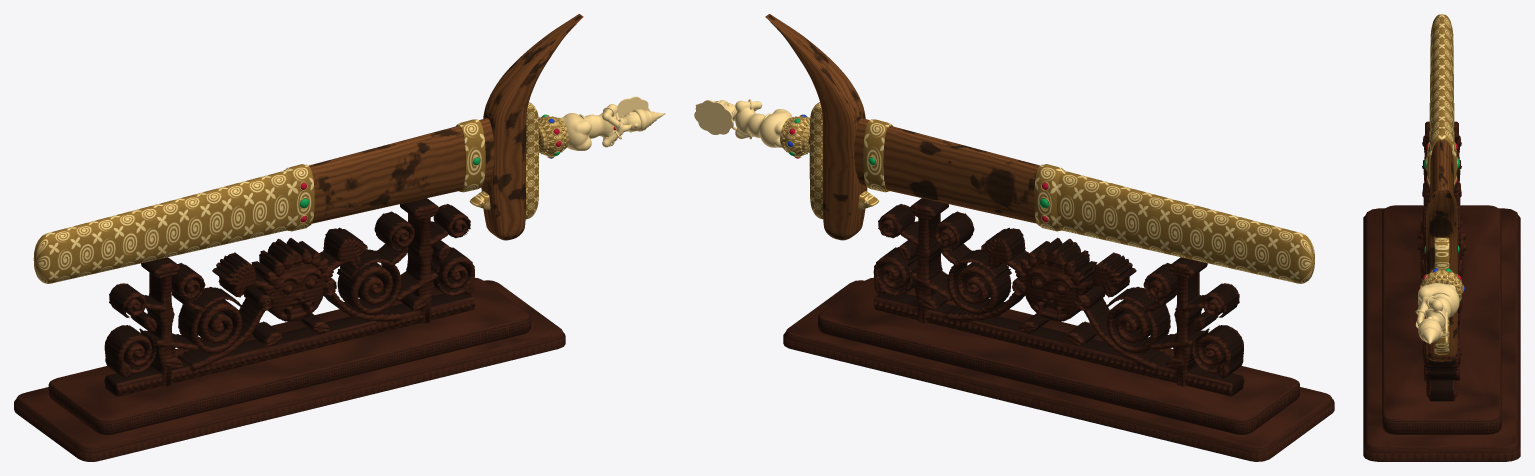
Rendered from keris_bali.glb.
3 renders of one model, left to right at view 1: azimuth 30°, elevation 25°; view 2: azimuth 150°, elevation 25°; view 3: azimuth 270°, elevation 25°, orthographic. The views are drawn at different scales.
Visible parts, largest first — view 1: Jagrak_Ukiran, Jagrak_Kaki, Pendok, Gandar, Warangka_Sesrengatan, Hulu, Cincin, Ganja, Selut; view 2: Jagrak_Ukiran, Jagrak_Kaki, Pendok, Gandar, Warangka_Sesrengatan, Hulu, Cincin, Ganja, Selut; view 3: Jagrak_Kaki, Jagrak_Ukiran, Pendok, Warangka_Sesrengatan, Hulu, Gandar, Ganja, Cincin, Selut.
Boxes of the visible parts, x1,y1,x2,y2 form: Jagrak_Ukiran: [104, 198, 475, 396]; Jagrak_Kaki: [14, 277, 565, 461]; Pendok: [33, 171, 291, 283]; Gandar: [309, 118, 494, 223]; Warangka_Sesrengatan: [481, 14, 583, 240]; Hulu: [559, 96, 665, 150]; Cincin: [283, 119, 485, 231]; Ganja: [469, 102, 538, 219]; Selut: [538, 115, 568, 157]; Jagrak_Ukiran: [873, 198, 1244, 396]; Jagrak_Kaki: [783, 277, 1334, 461]; Pendok: [1057, 170, 1314, 283]; Gandar: [854, 118, 1039, 223]; Warangka_Sesrengatan: [765, 14, 867, 240]; Hulu: [694, 99, 792, 147]; Cincin: [863, 119, 1064, 231]; Ganja: [809, 102, 879, 219]; Selut: [780, 115, 810, 157]; Jagrak_Kaki: [1363, 205, 1520, 461]; Jagrak_Ukiran: [1417, 121, 1466, 401]; Pendok: [1429, 14, 1454, 140]; Warangka_Sesrengatan: [1426, 189, 1457, 361]; Hulu: [1415, 283, 1459, 350]; Gandar: [1430, 140, 1453, 194]; Ganja: [1434, 237, 1449, 354]; Cincin: [1426, 128, 1457, 187]; Selut: [1420, 268, 1463, 300].
Bounding box in the file's own units: 0.579 × 0.2596 × 0.124.
Materials: 10 (5 with a texture image).
